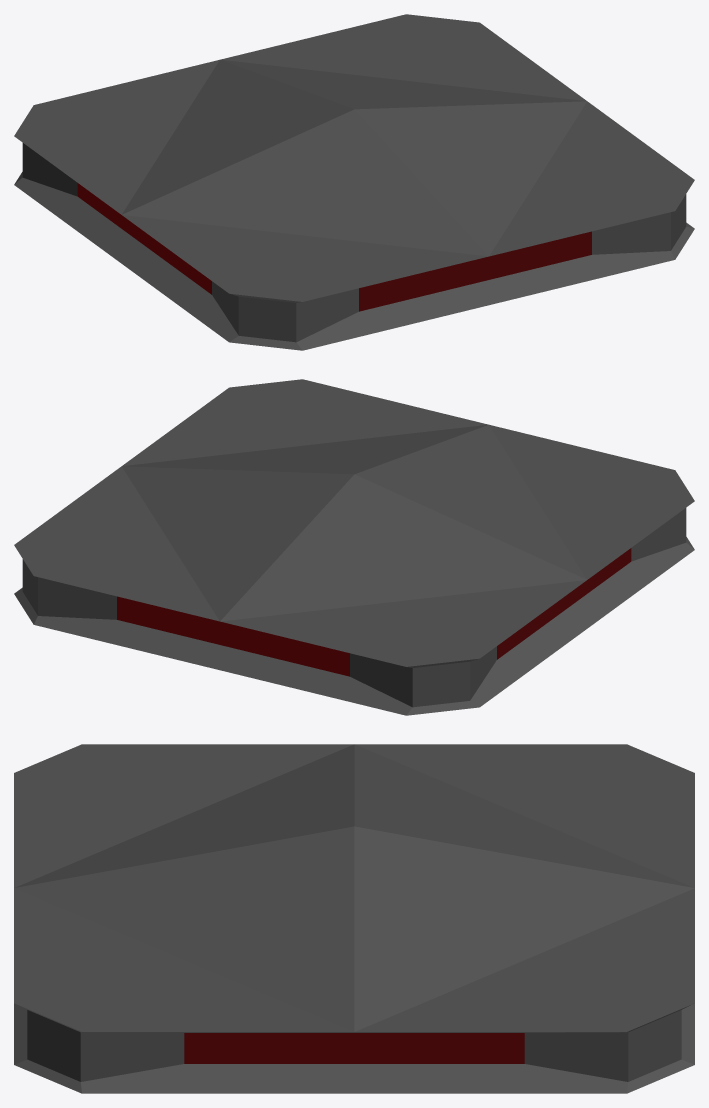
The model's file is enemyship6.glb.
The picture shows the model from 3 angles, top to bottom: view 1: azimuth 30°, elevation 25°; view 2: azimuth 150°, elevation 25°; view 3: azimuth 270°, elevation 25°; orthographic projection. The views are drawn at different scales.
Visible parts, largest first — view 1: Ship; view 2: Ship; view 3: Ship.
Part boxes in pixels (x1,y1,x2,y2): Ship: [14, 14, 694, 350]; Ship: [14, 379, 694, 715]; Ship: [14, 744, 694, 1093].
Bounding box in the file's own units: 1.8 × 0.54 × 1.8.
